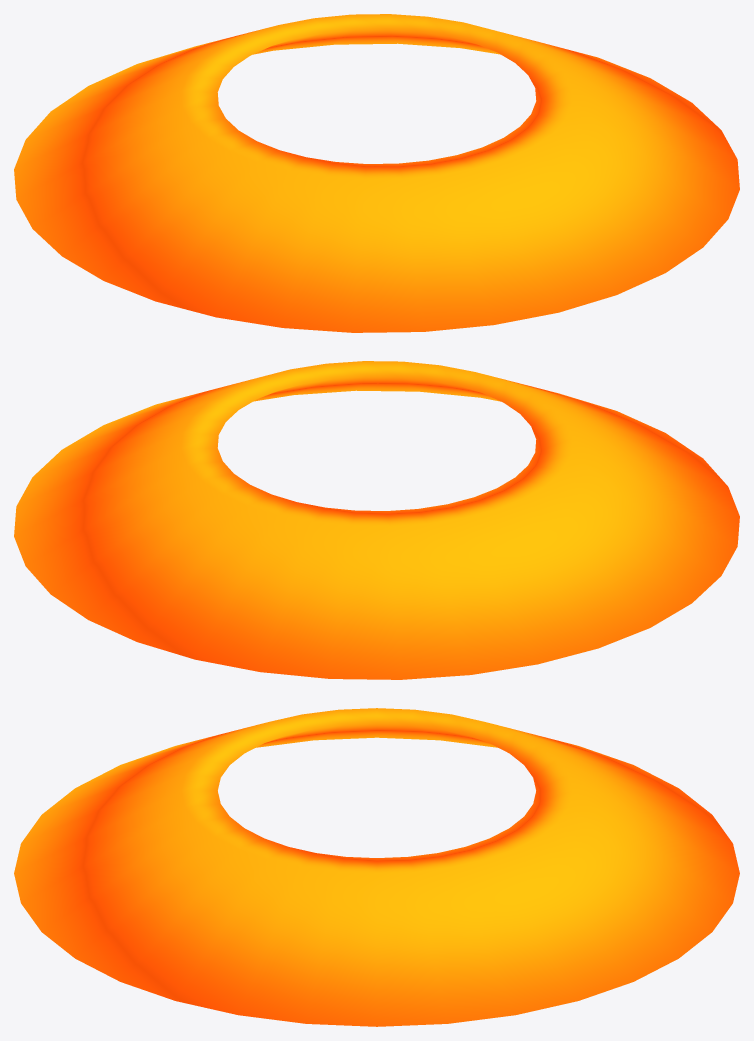
The model's file is p_trashbot_goo_projectile_large_base.fbx.
3 views of the same model, one above another, from view 1: azimuth 30°, elevation 25°; view 2: azimuth 150°, elevation 25°; view 3: azimuth 270°, elevation 25° (orthographic).
Visible parts, largest first — view 1: Splash1_pose2; view 2: Splash1_pose2; view 3: Splash1_pose2.
Boxes of the visible parts, x1,y1,x2,y2 form: Splash1_pose2: (14,14,739,332); Splash1_pose2: (14,361,739,679); Splash1_pose2: (14,708,739,1026).
Bounding box in the file's own units: 12.32 × 1.55 × 12.32.
